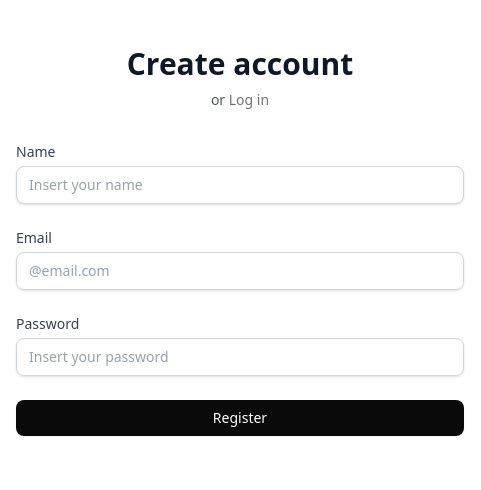
Scenario: Register › Should show "unknown" error for unexpected codes
In the field labelled "Name": (240, 185) [16,166,464,204], type "John Doe"
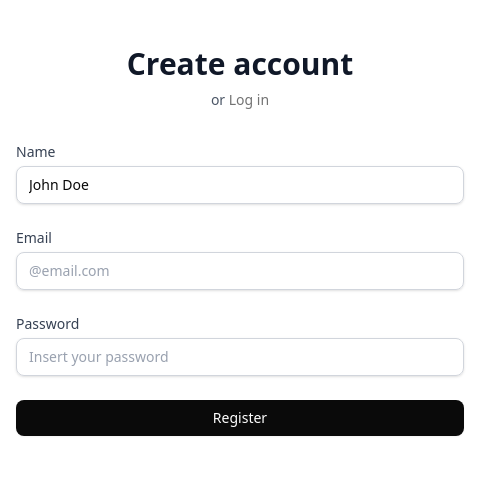
In the field labelled "Email": (240, 271) [16,252,464,290], type "test@test.com"
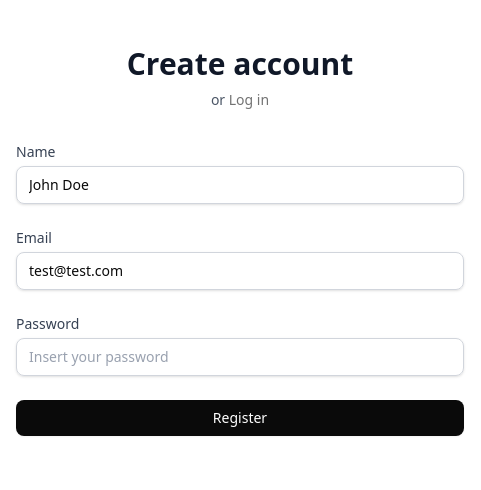
In the password field labelled "Password": (240, 357) [16,338,464,376], type "Password123"
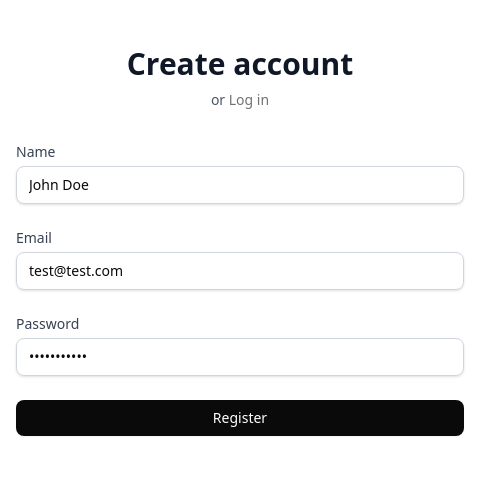
Click the button "Register": (240, 418) [16,400,464,436]
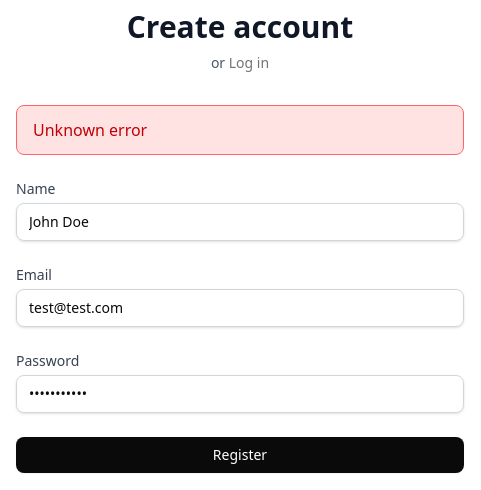
Expected: the text "Unknown error" is shown, [16,105,464,155]
